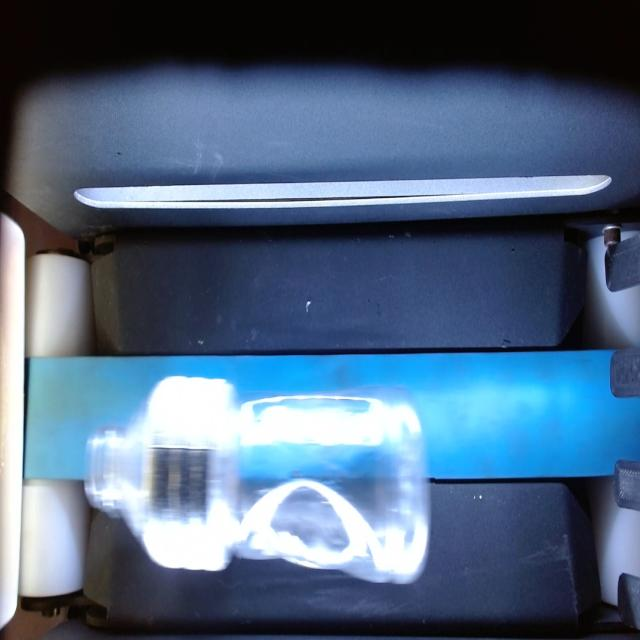bottom: (241, 392, 435, 591)
label: (142, 374, 241, 579)
neck: (84, 404, 149, 534)
